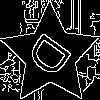D: (25, 30, 81, 86)
